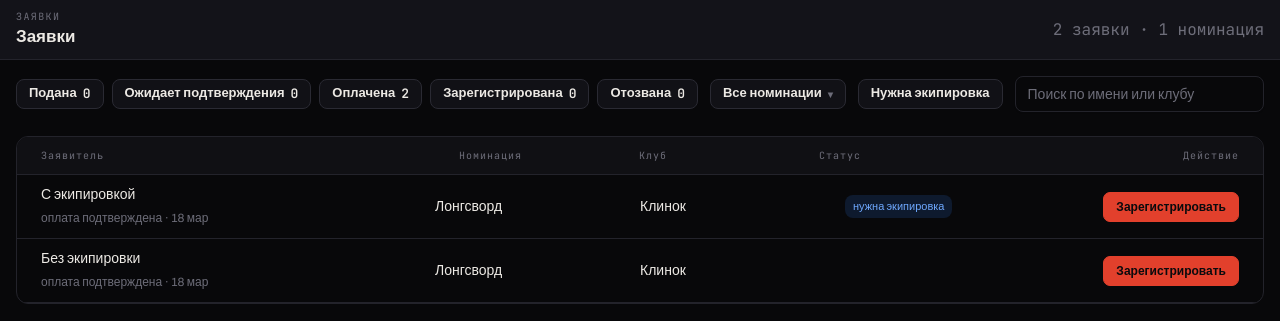
Test: ApplicationsScreen › combines equipment filter and search (AC-5)
Click the button "Нужна экипировка": (930, 94) left=858, top=79, right=1002, bottom=109
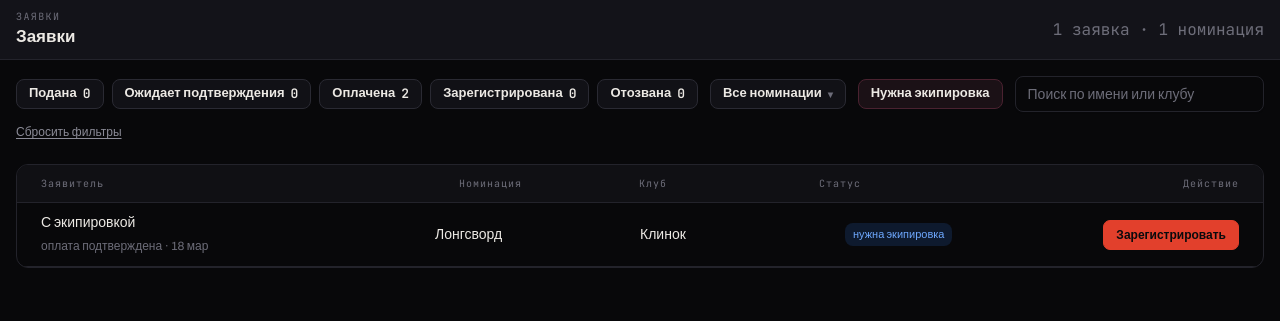
In the search field: (1139, 94) left=1014, top=76, right=1264, bottom=112, type "клинок"
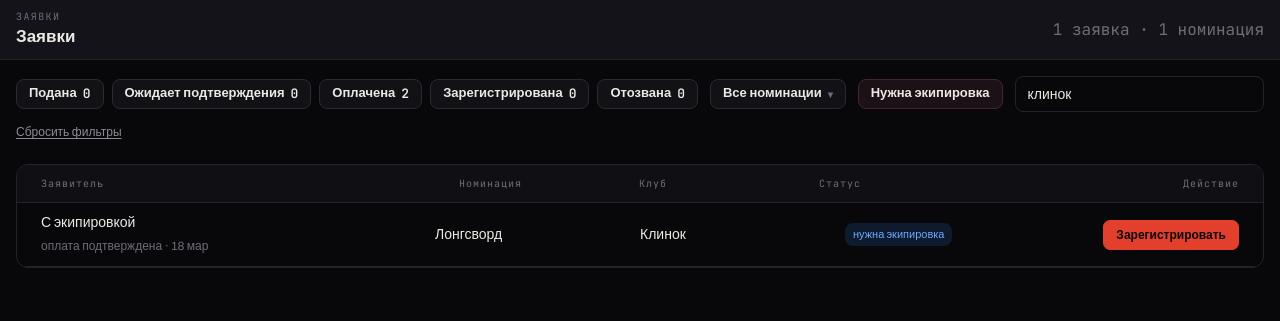
expect the text "С экипировкой" is shown: met, box left=41, top=214, right=135, bottom=230
expect the text "Без экипировки" is not shown: met
Click the button "Сбросить фильтры": (69, 132) left=16, top=124, right=122, bottom=140
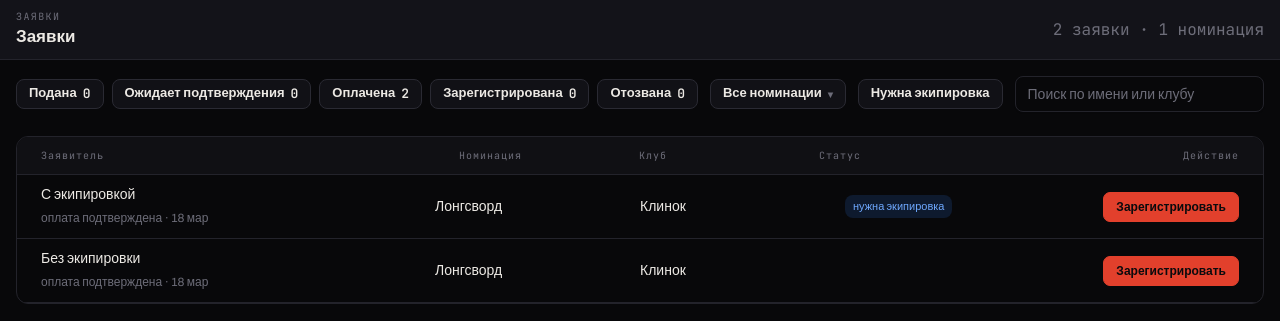
expect the text "Без экипировки" is shown: met, box left=41, top=250, right=140, bottom=266
